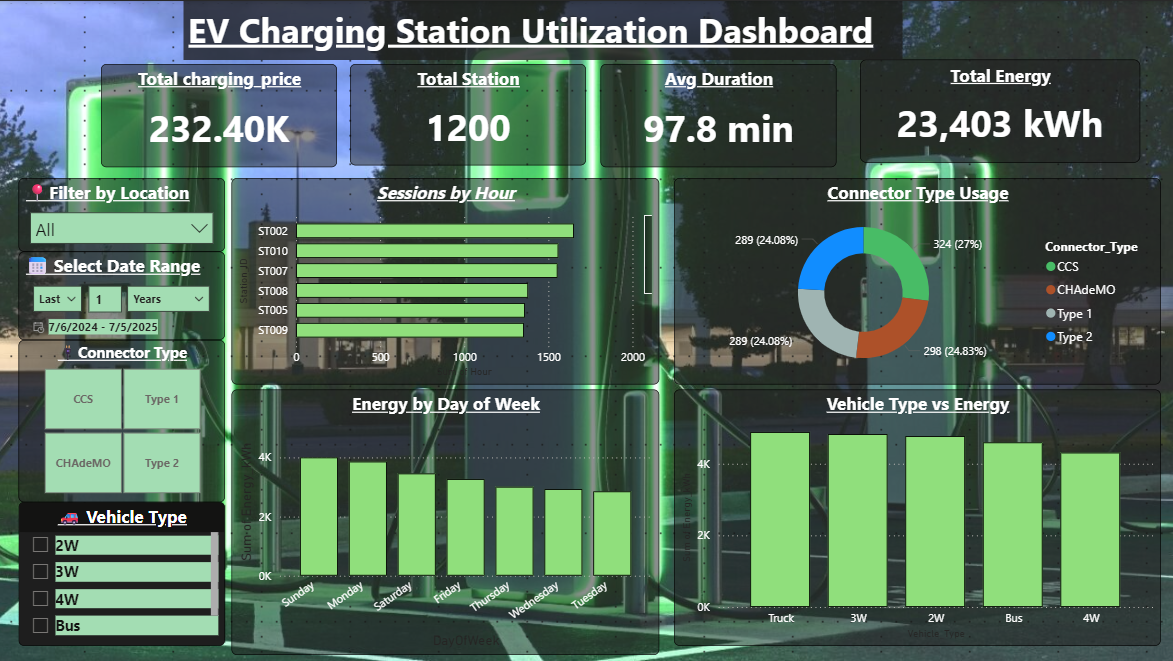

This screenshot's page, from the dashboard's own definition file:
{"tool":"powerbi","page":{"name":"Page 1","canvas":[1280,720],"ordinal":0},"visuals":[{"type":"clusteredBarChart","title":" Sessions by Hour","fields":{"Category":["cleaned_ev_data.Station_ID"],"Y":["Sum(cleaned_ev_data.Hour)"]},"box":[256,192,464,224],"z":0},{"type":"clusteredColumnChart","title":"Energy by Day of Week","fields":{"Category":["cleaned_ev_data.DayOfWeek"],"Y":["Sum(cleaned_ev_data.Energy_kWh)"]},"box":[256,422,464,288],"z":1000},{"type":"donutChart","title":"Connector Type Usage","fields":{"Category":["cleaned_ev_data.Connector_Type"],"Y":["CountNonNull(cleaned_ev_data.Station_ID)"]},"box":[736,192,528,224],"z":2000},{"type":"columnChart","title":"Vehicle Type vs Energy","fields":{"Category":["cleaned_ev_data.Vehicle_Type"],"Y":["Sum(cleaned_ev_data.Energy_kWh)"]},"box":[736,422,528,278],"z":3000},{"type":"card","title":"Total Station","fields":{"Values":["CountNonNull(cleaned_ev_data.Station_ID)"]},"box":[384,68,256,110],"z":4000},{"type":"card","title":"Total Energy","fields":{"Values":["cleaned_ev_data.TotalEnergy_kWh"]},"box":[938,64,304,112],"z":5000},{"type":"card","title":"Total charging_price","fields":{"Values":["Sum(cleaned_ev_data.Charging_Price)"]},"box":[114,68,256,112],"z":6000},{"type":"card","title":"Avg Duration\t","fields":{"Values":["cleaned_ev_data.AvgDurationText"]},"box":[656,68,256,112],"z":7000},{"type":"slicer","title":"📍Filter by Location","fields":{"Values":["cleaned_ev_data.Location"]},"box":[24,192,224,80],"z":8000},{"type":"slicer","title":"📅 Select Date Range","fields":{"Values":["cleaned_ev_data.Timestamp"]},"box":[24,272,224,96],"z":9000},{"type":"slicer","title":"🔌Connector Type ","fields":{"Values":["cleaned_ev_data.Connector_Type"]},"box":[24,368,224,176],"z":10000},{"type":"slicer","title":"🚗 Vehicle Type","fields":{"Values":["cleaned_ev_data.Vehicle_Type"]},"box":[24,544,224,156],"z":11000},{"type":"textbox","box":[204,0,780,64],"z":12000}]}

Visuals, with their boxes in screenshot pixels (x1, y1, x2, y2), scaled from the page's 1280x720 canvas onto the 1173x661 screenshot:
" Sessions by Hour" clusteredBarChart: locate(235, 176, 660, 382)
"Energy by Day of Week" clusteredColumnChart: locate(235, 387, 660, 652)
"Connector Type Usage" donutChart: locate(674, 176, 1158, 382)
"Vehicle Type vs Energy" columnChart: locate(674, 387, 1158, 643)
"Total Station" card: locate(352, 62, 586, 163)
"Total Energy" card: locate(860, 59, 1138, 162)
"Total charging_price" card: locate(104, 62, 339, 165)
"Avg Duration	" card: locate(601, 62, 836, 165)
"📍Filter by Location" slicer: locate(22, 176, 227, 250)
"📅 Select Date Range" slicer: locate(22, 250, 227, 338)
"🔌Connector Type " slicer: locate(22, 338, 227, 499)
"🚗 Vehicle Type" slicer: locate(22, 499, 227, 643)
textbox: locate(187, 0, 902, 59)
